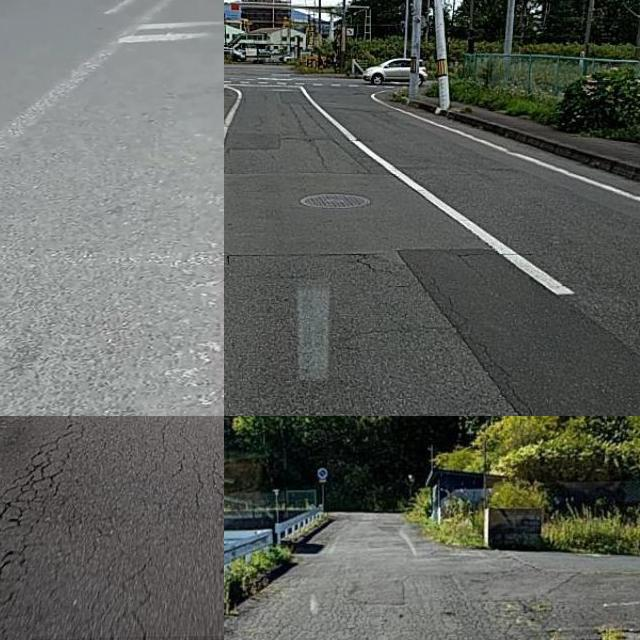Retak Buaya: (0, 432, 85, 640)
Sambungan: (399, 245, 640, 416)
